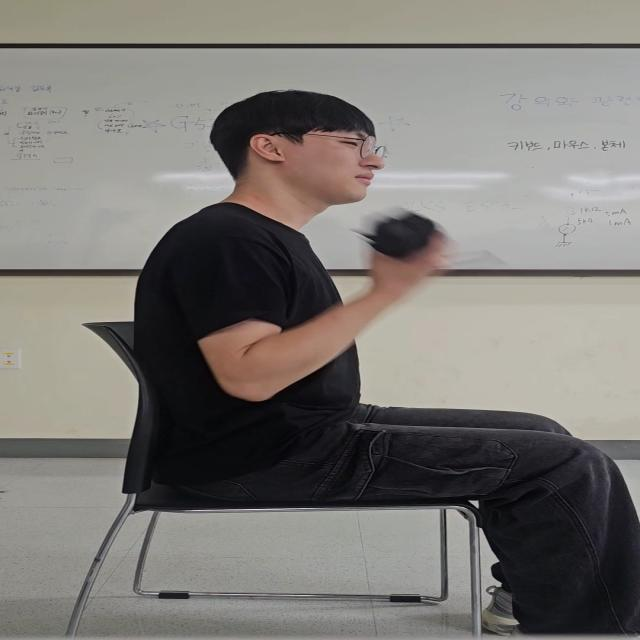curl: (154, 217, 468, 401)
